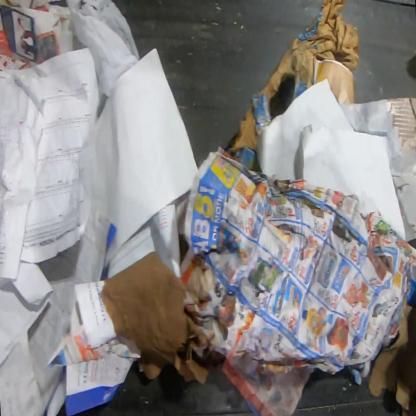cardboard: (99, 251, 217, 384)
soft_plastic: (64, 0, 141, 98)
